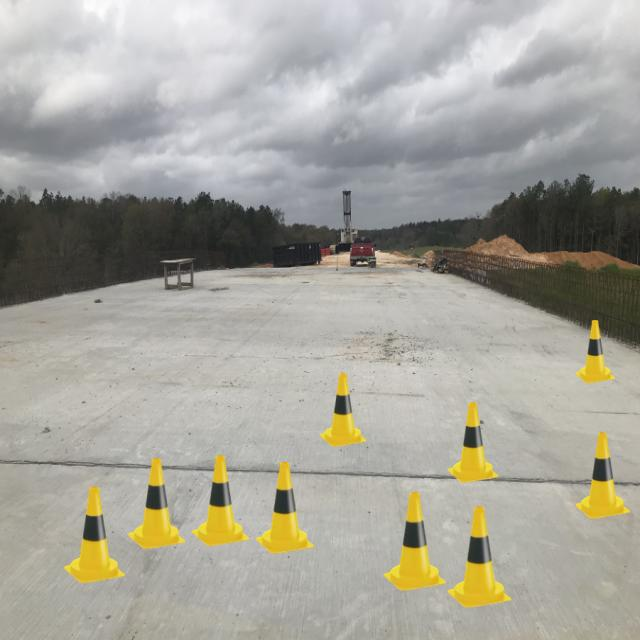yellow_cone: (448, 506, 512, 608), (384, 492, 446, 591), (64, 487, 125, 583), (256, 462, 314, 554), (128, 458, 185, 549), (192, 456, 249, 546), (575, 432, 630, 518), (448, 402, 498, 483), (319, 373, 366, 447), (575, 320, 615, 383)
